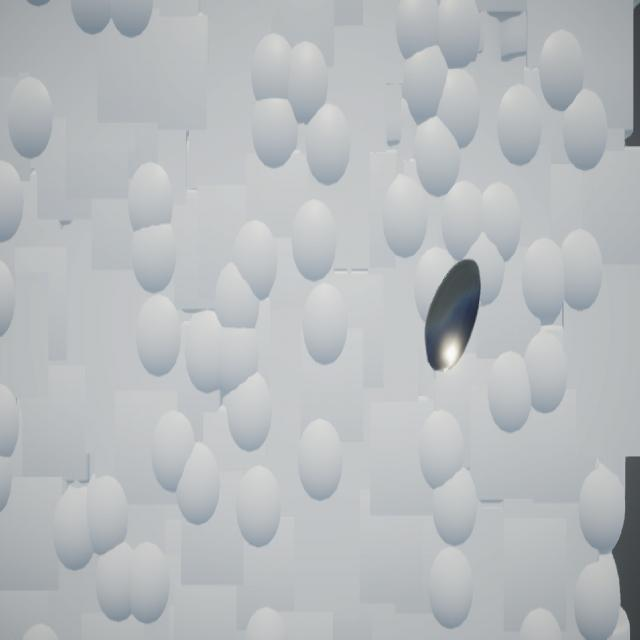top_spoon: (425, 259, 482, 373)
